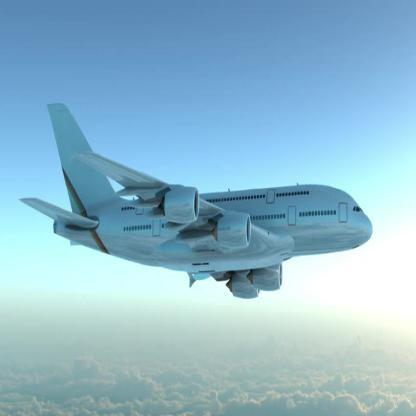CIV_Plane: (14, 92, 378, 314)
